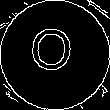O_S: (31, 28, 79, 82)
